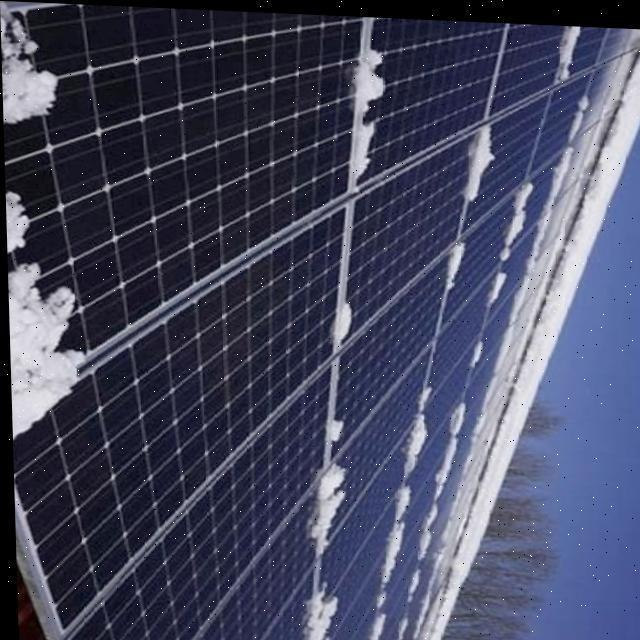Anomaly Solar Panel: (0, 0, 640, 640)
Snow: (6, 259, 88, 452), (411, 395, 467, 560), (0, 6, 60, 127), (295, 458, 352, 550), (351, 40, 384, 176), (396, 377, 440, 477), (374, 479, 414, 581), (501, 170, 535, 258), (466, 117, 503, 197), (302, 580, 340, 640), (552, 20, 587, 74), (330, 296, 356, 337), (483, 265, 512, 300), (445, 236, 465, 284), (366, 606, 386, 640), (328, 413, 343, 439)
